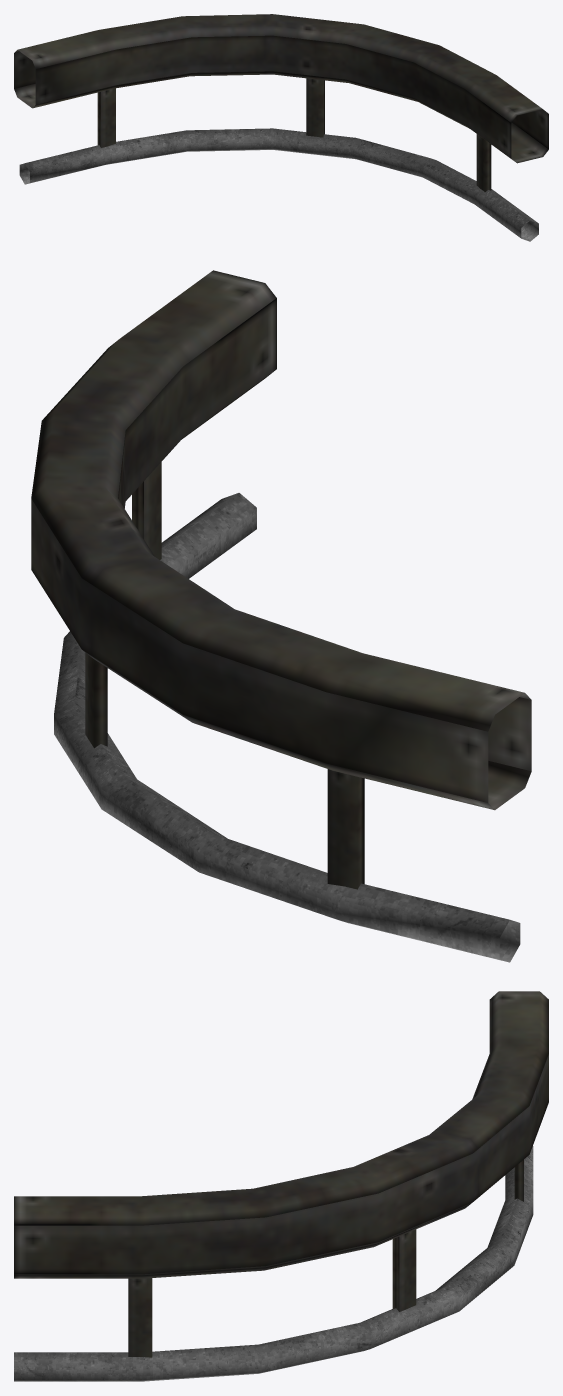
File: railing_ceiling_bend.dae
3 renders of one model, top to bottom at view 1: azimuth 30°, elevation 25°; view 2: azimuth 150°, elevation 25°; view 3: azimuth 270°, elevation 25°, orthographic. The views are drawn at different scales.
Parts seen in each view (by area): view 1: polySurface655, polySurface652; view 2: polySurface655, polySurface652; view 3: polySurface655, polySurface652.
Part boxes in pixels (x1,y1,x2,y2): polySurface655: (14, 14, 548, 191); polySurface652: (19, 128, 538, 241); polySurface655: (31, 270, 531, 889); polySurface652: (54, 493, 520, 962); polySurface655: (14, 991, 548, 1357); polySurface652: (14, 1146, 533, 1381).
Size of the model in its own units: 2.12 by 0.772 by 2.12.
